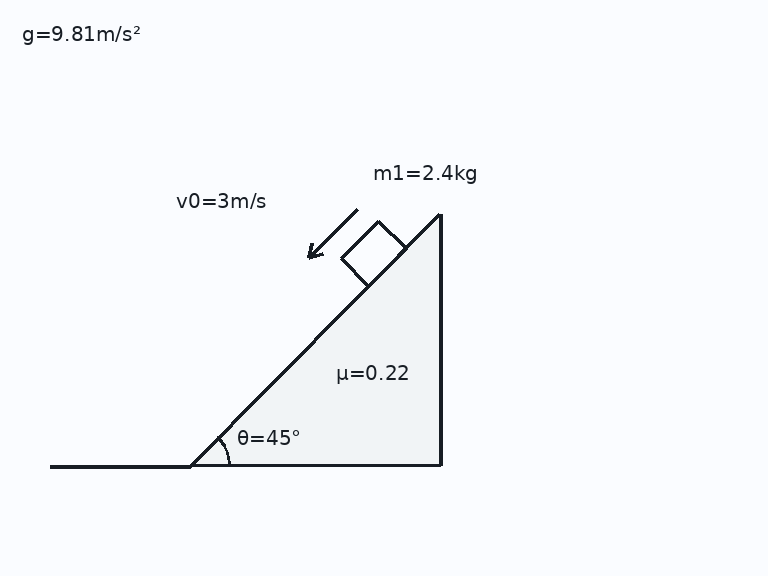block: (338, 219, 408, 288)
ramp: (187, 212, 442, 467)
